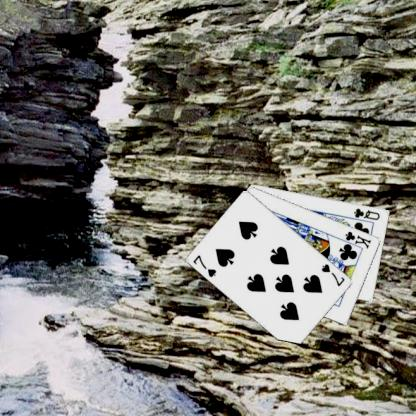7S: (318, 261, 346, 288), (190, 252, 218, 279)
KC: (338, 228, 372, 251)
QC: (351, 205, 381, 221)
